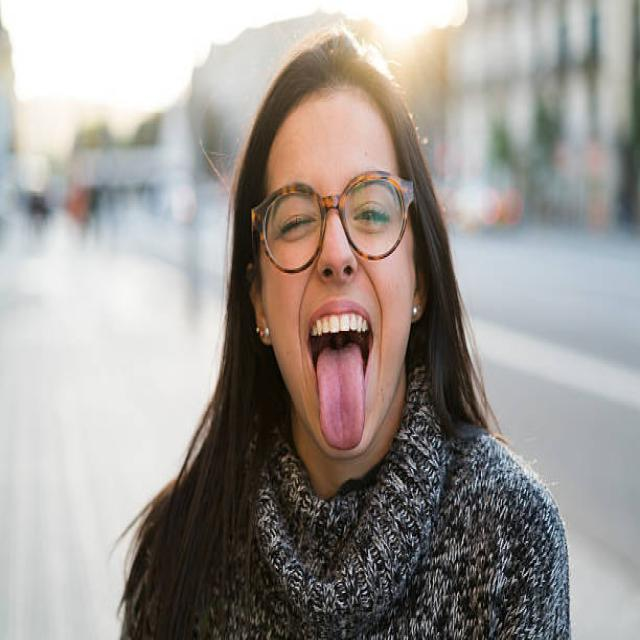tongue: (315, 341, 370, 449)
